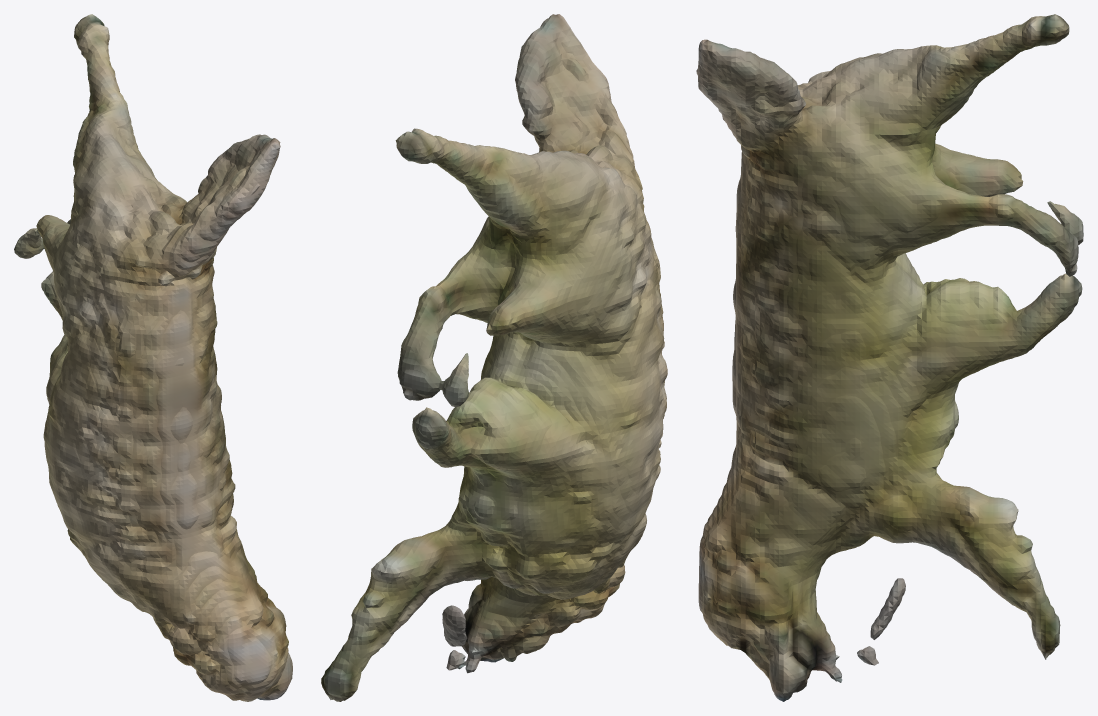
The picture shows the model from 3 angles, left to right: view 1: azimuth 30°, elevation 25°; view 2: azimuth 150°, elevation 25°; view 3: azimuth 270°, elevation 25°; orthographic projection. The views are drawn at different scales.
Visible parts, largest first — view 1: world; view 2: world; view 3: world.
Boxes of the visible parts, x1=… form: world: x1=14, y1=14, x2=292, y2=701; world: x1=321, y1=14, x2=667, y2=701; world: x1=696, y1=14, x2=1083, y2=701.
Bounding box in the file's own units: 0.3836 × 1.03 × 0.5546.
